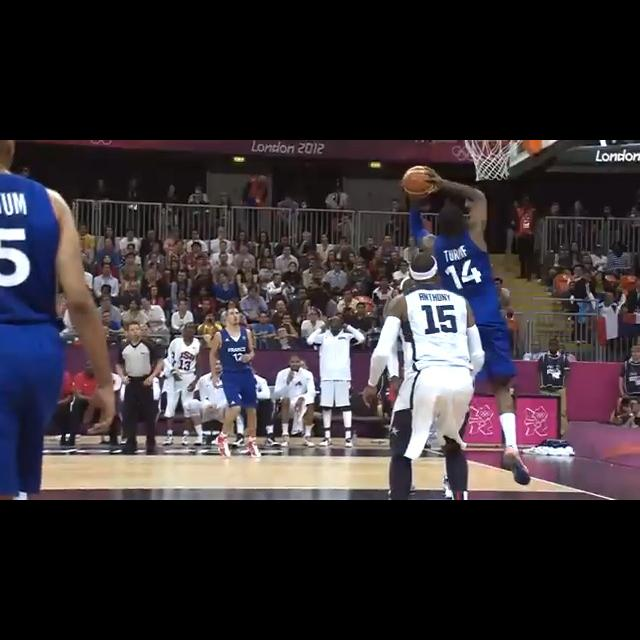basketball: (402, 167, 437, 197)
hoop: (463, 140, 519, 183)
person: (364, 242, 493, 500), (426, 199, 517, 497), (304, 312, 364, 448), (112, 316, 162, 452), (217, 307, 262, 453), (157, 320, 204, 446), (272, 354, 316, 445)
